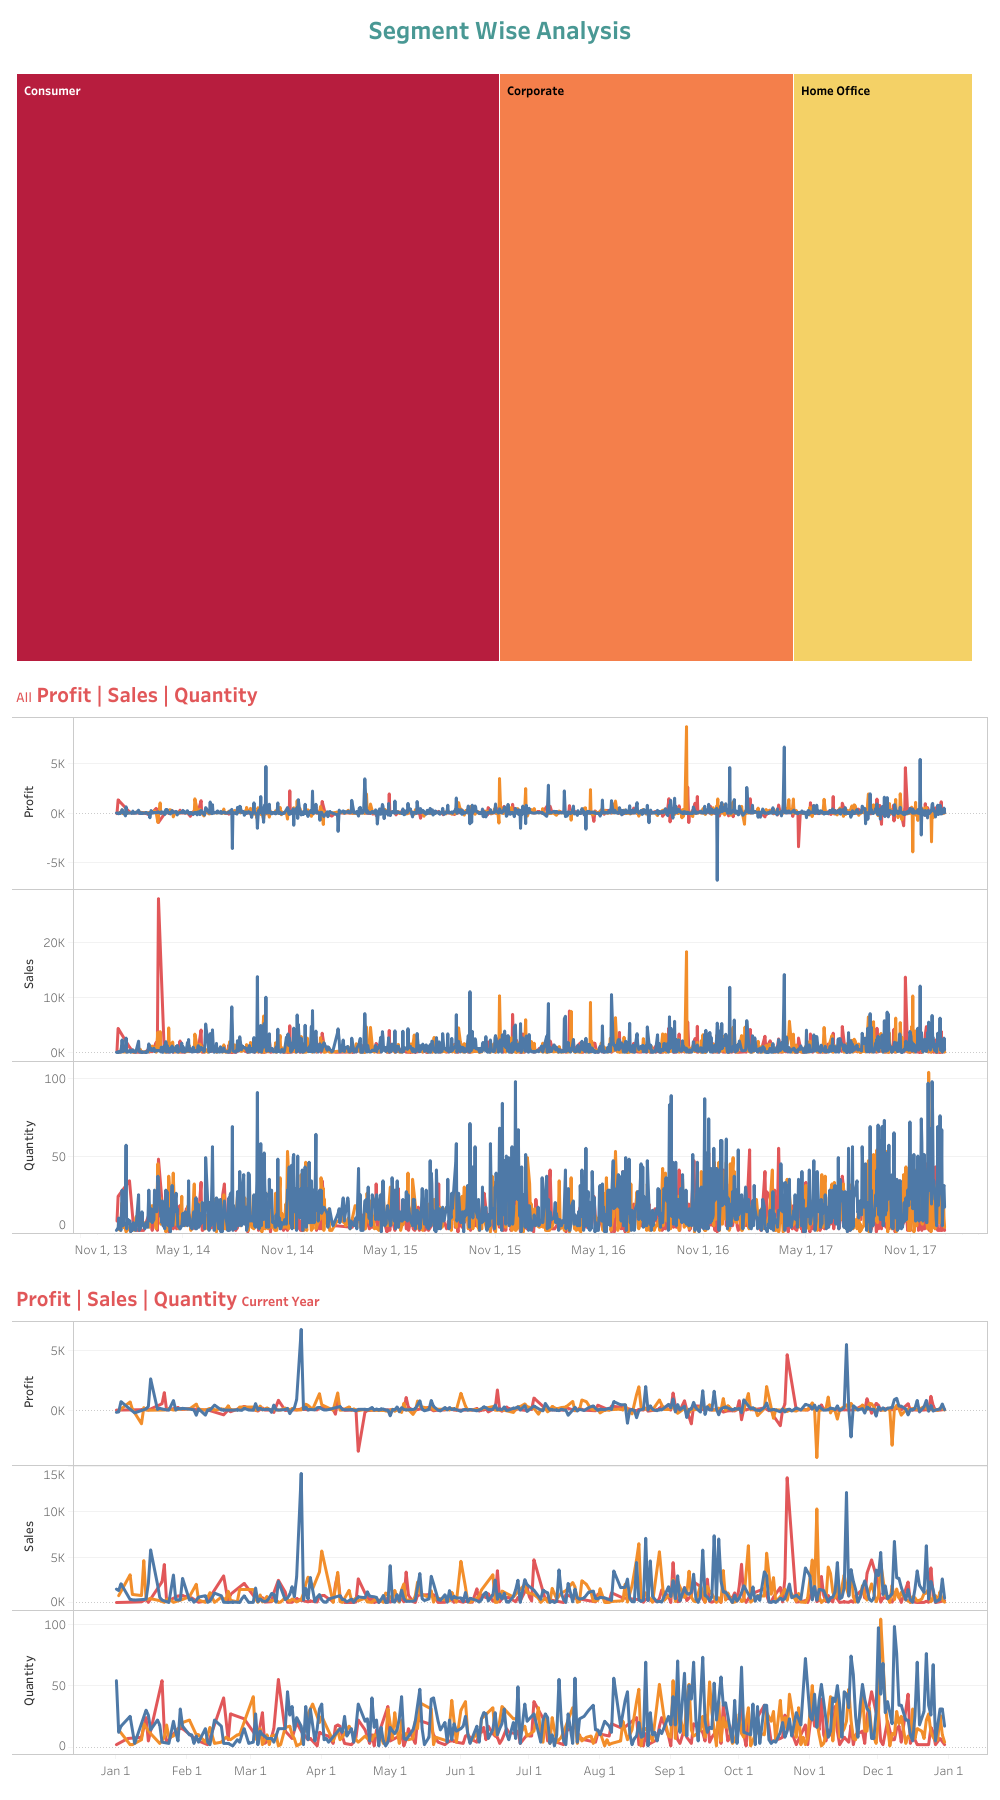

What the dashboard file says about the page in this screenshot:
{"tool":"tableau","page":{"name":"By Segment","canvas":[1000,1800],"ordinal":0},"visuals":[{"type":"worksheet","box":[0,0,1000,1800]},{"type":"worksheet","param":"vert","box":[8,8,984,1784]},{"type":"worksheet","box":[8,8,984,42]},{"type":"worksheet","param":"horz","box":[8,50,984,1742]},{"type":"worksheet","param":"horz","box":[8,50,984,1742]},{"type":"worksheet","box":[8,50,984,1742]},{"type":"worksheet","param":"horz","box":[8,50,984,620.2]},{"type":"worksheet","param":"horz","box":[8,50,984,620.2]},{"type":"worksheet","box":[8,50,984,620.2]},{"type":"worksheet","title":"Segment-P","mark":"Automatic","box":[8,50,984,620.2]},{"type":"worksheet","title":"SegmentAllDate","mark":"Automatic","rows":["Profit","Sales","Quantity"],"cols":["Order Date"],"box":[8,670.1,984,604.2]},{"type":"worksheet","title":"SegementDateThisYear","mark":"Automatic","rows":["Profit","Sales","Quantity"],"cols":["Order Date"],"box":[8,1274.4,984,517.6]}]}

Visuals, with their boxes in screenshot pixels (x1, y1, x2, y2), scaled from the page's 1000x1800 canvas onto the 1000x1800 screenshot:
worksheet: [0, 0, 999, 1799]
worksheet: [8, 8, 992, 1792]
worksheet: [8, 8, 992, 50]
worksheet: [8, 50, 992, 1792]
worksheet: [8, 50, 992, 1792]
worksheet: [8, 50, 992, 1792]
worksheet: [8, 50, 992, 670]
worksheet: [8, 50, 992, 670]
worksheet: [8, 50, 992, 670]
"Segment-P" worksheet: [8, 50, 992, 670]
"SegmentAllDate" worksheet: [8, 670, 992, 1274]
"SegementDateThisYear" worksheet: [8, 1274, 992, 1792]
